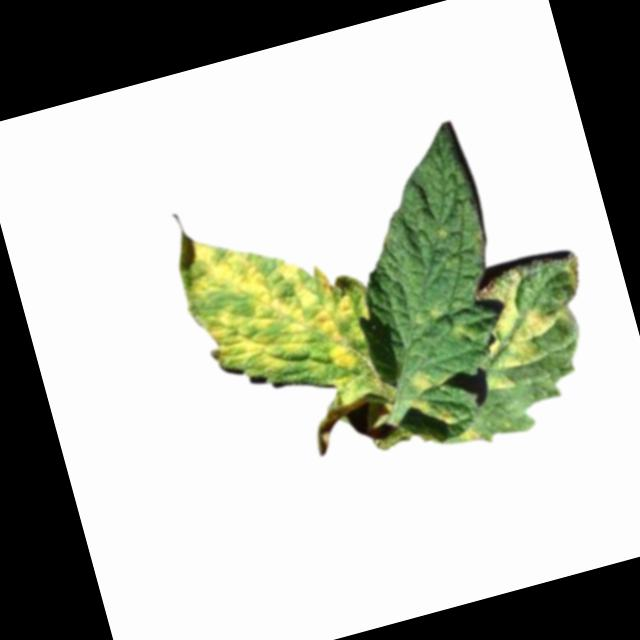Leaf_Mold: (166, 190, 388, 439), (458, 265, 569, 396), (406, 365, 456, 396), (404, 391, 435, 416), (456, 420, 485, 446), (435, 402, 461, 426)
